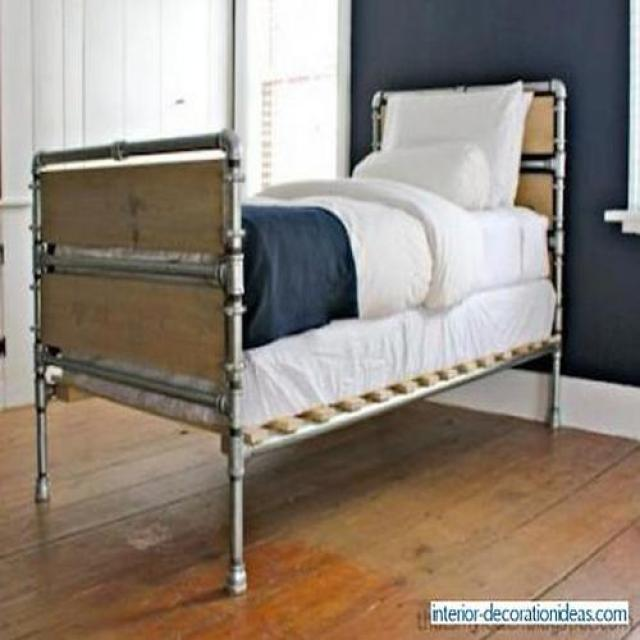bed: (31, 82, 563, 596)
